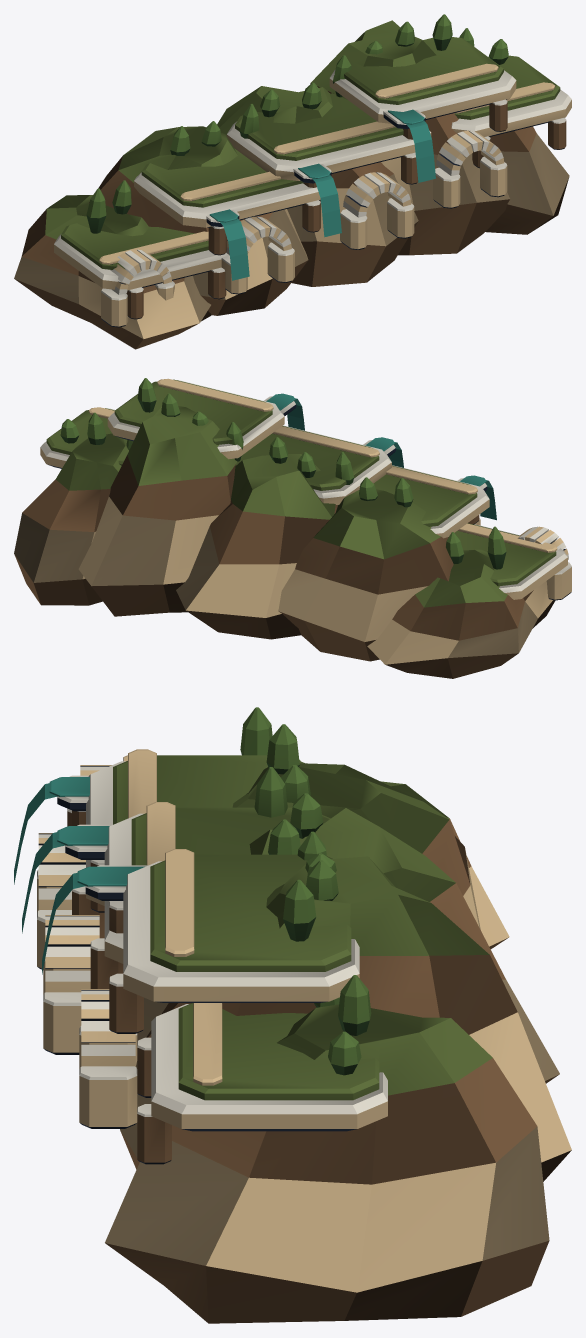
File: heliostat-ravine.glb
The picture shows the model from 3 angles, top to bottom: view 1: azimuth 30°, elevation 25°; view 2: azimuth 150°, elevation 25°; view 3: azimuth 270°, elevation 25°; orthographic projection. The views are drawn at different scales.
Parts seen in each view (by area): view 1: heliostat-ravine; view 2: heliostat-ravine; view 3: heliostat-ravine.
Part boxes in pixels (left/top/right/bottom): heliostat-ravine: left=14, top=14, right=571, bottom=349; heliostat-ravine: left=14, top=378, right=571, bottom=678; heliostat-ravine: left=14, top=707, right=571, bottom=1323.
Size of the model in its own units: 23.19 by 8.63 by 11.94.
